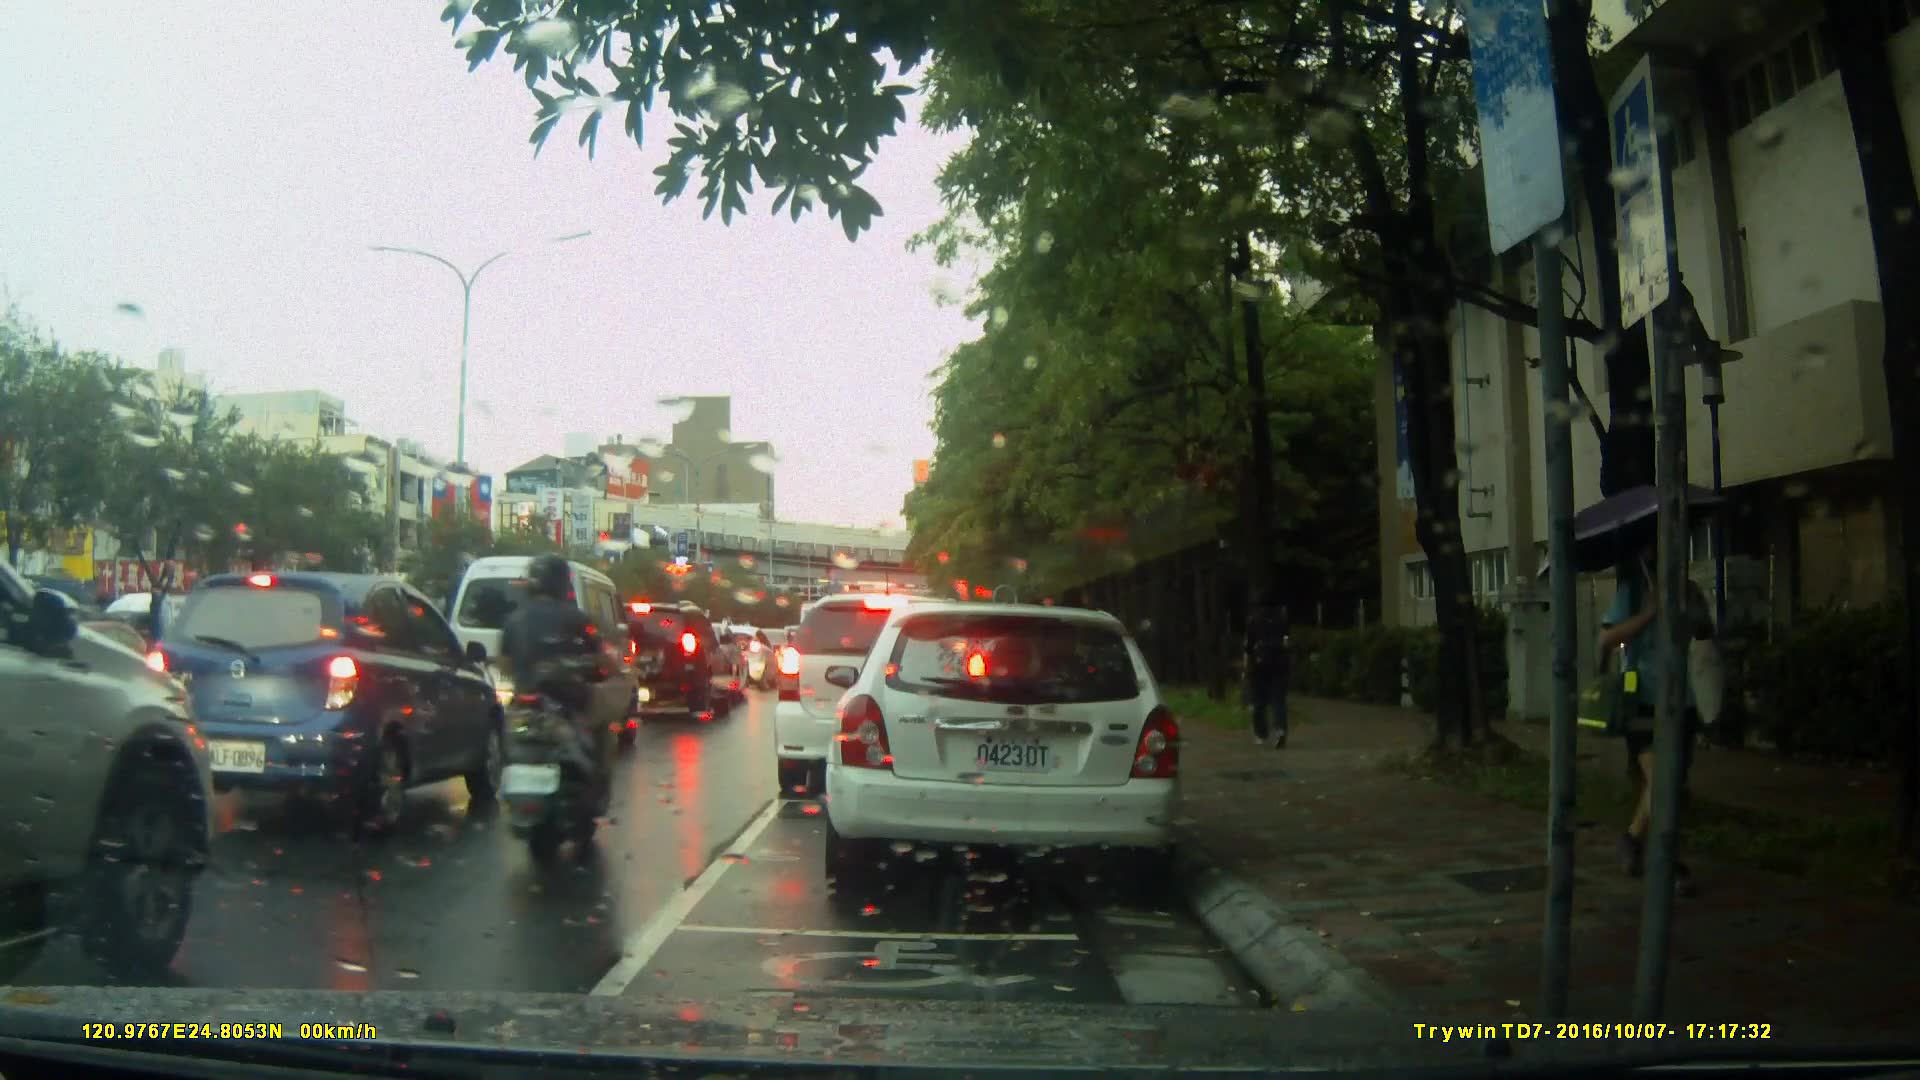pedestrian: (1604, 492, 1736, 910), (1229, 580, 1302, 757)
rider: (508, 555, 632, 866)
vehicle: (815, 593, 1204, 909), (1, 468, 217, 988), (131, 568, 511, 840), (770, 590, 993, 802), (441, 554, 644, 763), (585, 603, 736, 724)
